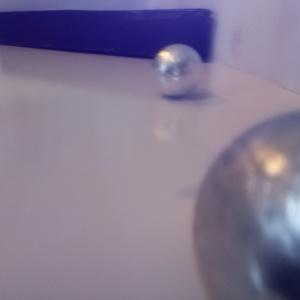zone: (1, 9, 211, 63)
